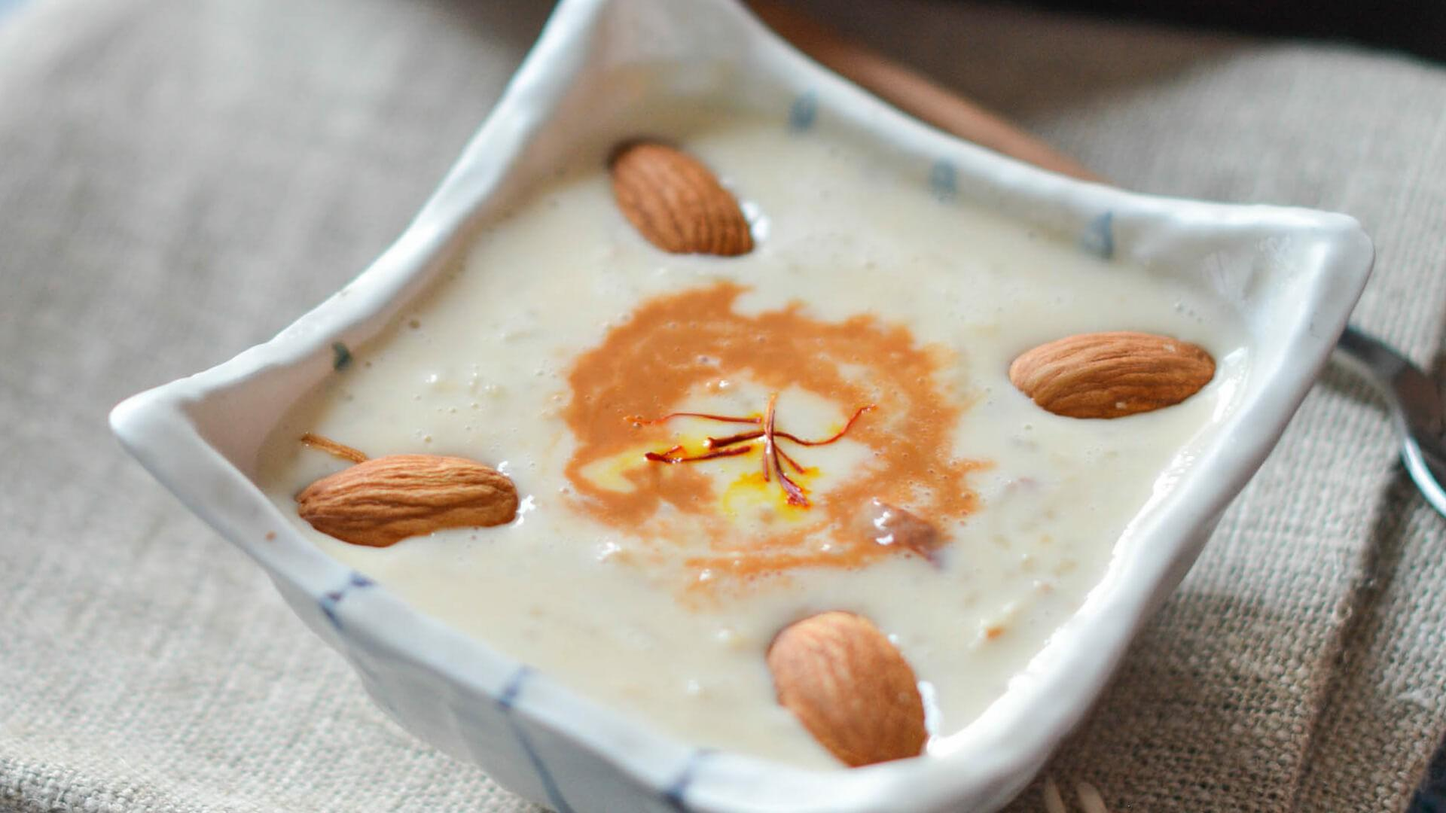Kheer: (252, 86, 1244, 767)
